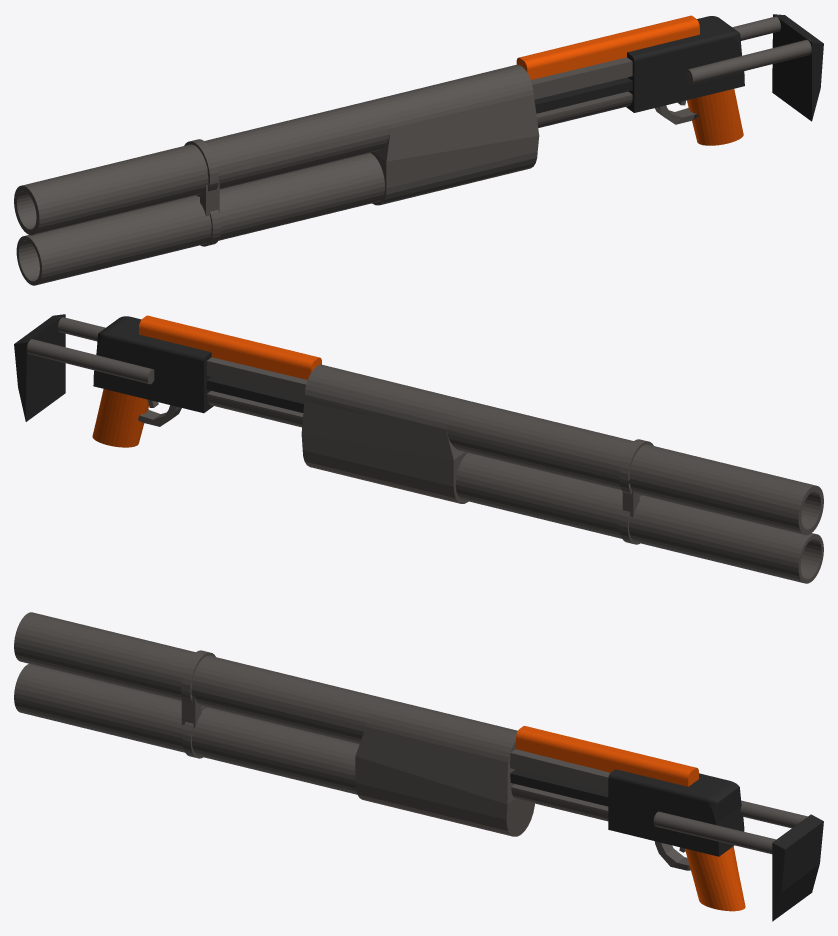
File: Shotgun.fbx
3 views of the same model, one above another, from view 1: azimuth 30°, elevation 25°; view 2: azimuth 150°, elevation 25°; view 3: azimuth 330°, elevation 25° (orthographic).
Visible parts, largest first — view 1: Cylinder, Cylinder.001, Cube.001, Cube, Cube.002, Cylinder.004, Cylinder.002, Cube.005, Cylinder.003; view 2: Cylinder, Cylinder.001, Cube.001, Cube, Cube.002, Cylinder.004, Cylinder.003, Cube.005, Cylinder.002, Cube.003; view 3: Cylinder, Cylinder.001, Cube.001, Cube, Cube.002, Cylinder.004, Cylinder.002, Cube.005, Cylinder.003.
Boxes of the visible parts, box(x1,y1,x2,y2) form: Cylinder: box(14, 57, 632, 235); Cylinder.001: box(16, 153, 384, 285); Cube.001: box(626, 16, 744, 112); Cube: box(516, 15, 699, 79); Cube.002: box(772, 14, 823, 121); Cylinder.004: box(687, 89, 743, 145); Cylinder.002: box(686, 39, 811, 84); Cube.005: box(534, 77, 632, 113); Cylinder.003: box(732, 16, 780, 40); Cylinder: box(206, 357, 823, 535); Cylinder.001: box(455, 453, 823, 583); Cube.001: box(93, 316, 213, 413); Cube: box(139, 315, 321, 379); Cube.002: box(14, 314, 65, 421); Cylinder.004: box(92, 389, 148, 447); Cylinder.003: box(27, 339, 154, 384); Cube.005: box(206, 377, 304, 412); Cylinder.002: box(58, 317, 105, 341); Cube.003: box(138, 405, 181, 426); Cylinder: box(14, 612, 610, 836); Cylinder.001: box(14, 663, 359, 794); Cube.001: box(608, 769, 744, 856); Cube: box(516, 726, 698, 786); Cube.002: box(772, 814, 823, 921); Cylinder.004: box(685, 846, 745, 911); Cylinder.002: box(653, 811, 778, 854); Cube.005: box(510, 769, 608, 806); Cylinder.003: box(740, 800, 807, 828).
Size of the model in its own units: 3526 by 556 by 313.
